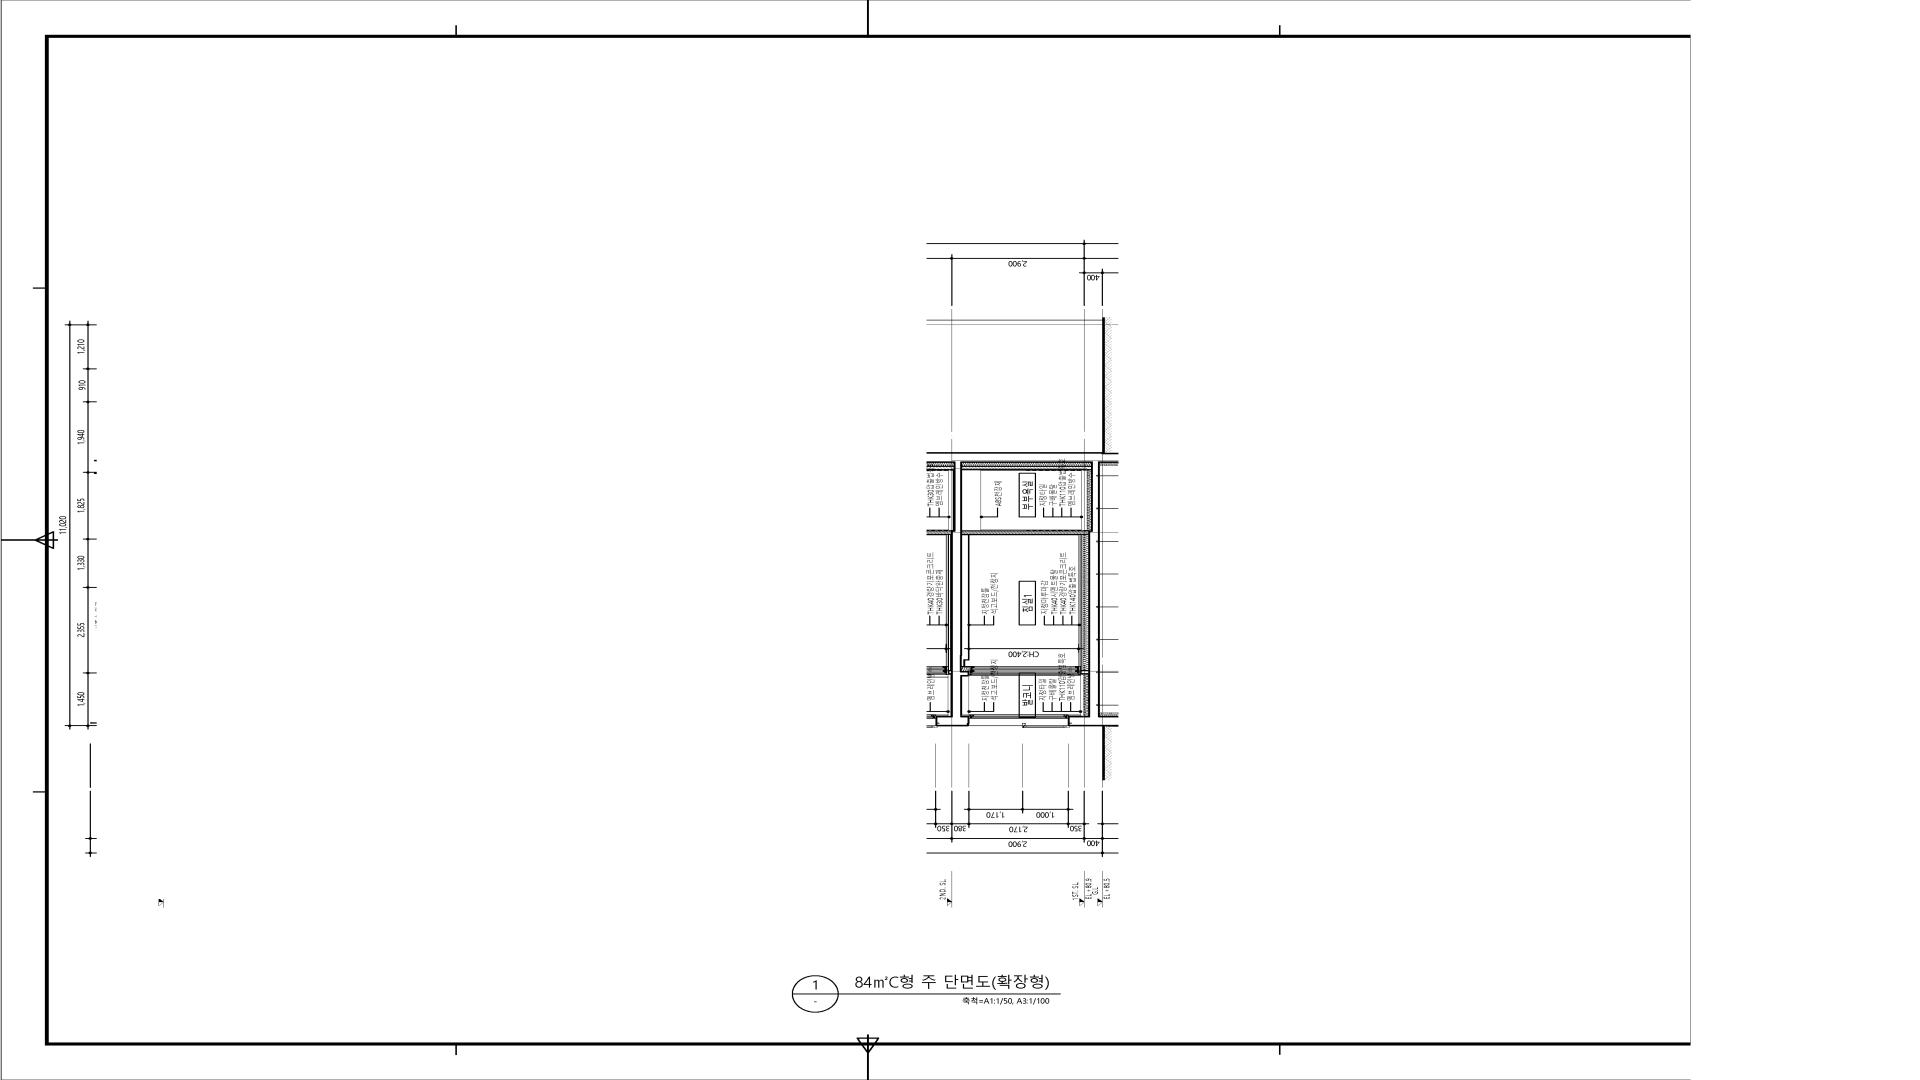background: (1, 0, 1920, 1080)
wall: (951, 452, 1100, 727), (963, 465, 1091, 471), (963, 530, 1088, 535), (1081, 670, 1088, 675)
window: (969, 715, 1069, 728), (969, 666, 1081, 676)
